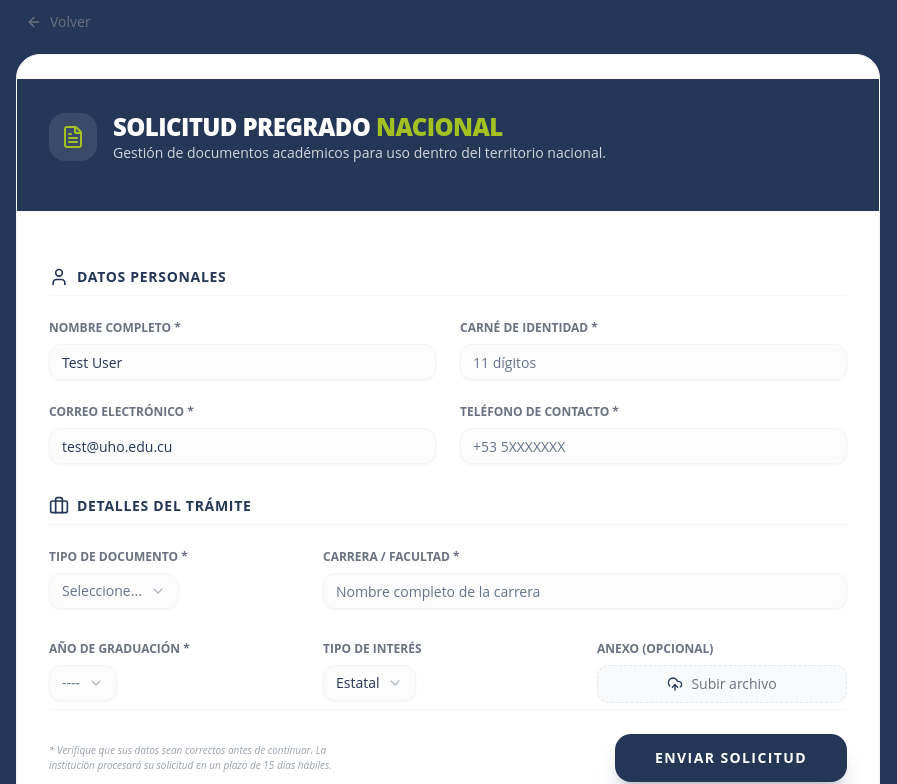
Test case: UnderNatProcedure validación común › exige carné de identidad
Click the button "Enviar Solicitud": (731, 758) [615,734,847,782]
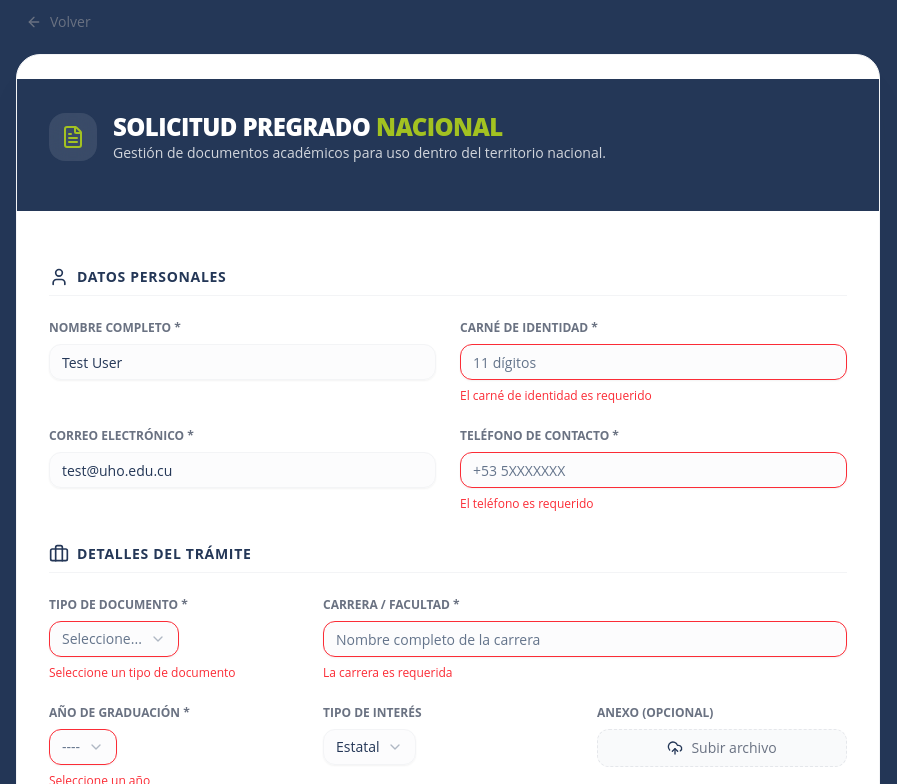
Check: the text "El carné de identidad es requerido" is shown, box [460,387,652,404]
